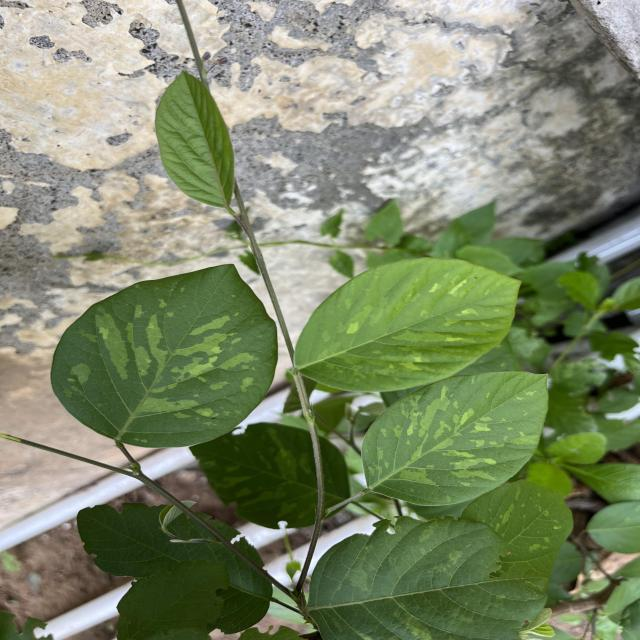Desmodium gangeticum: (47, 261, 281, 450), (358, 368, 552, 508)
